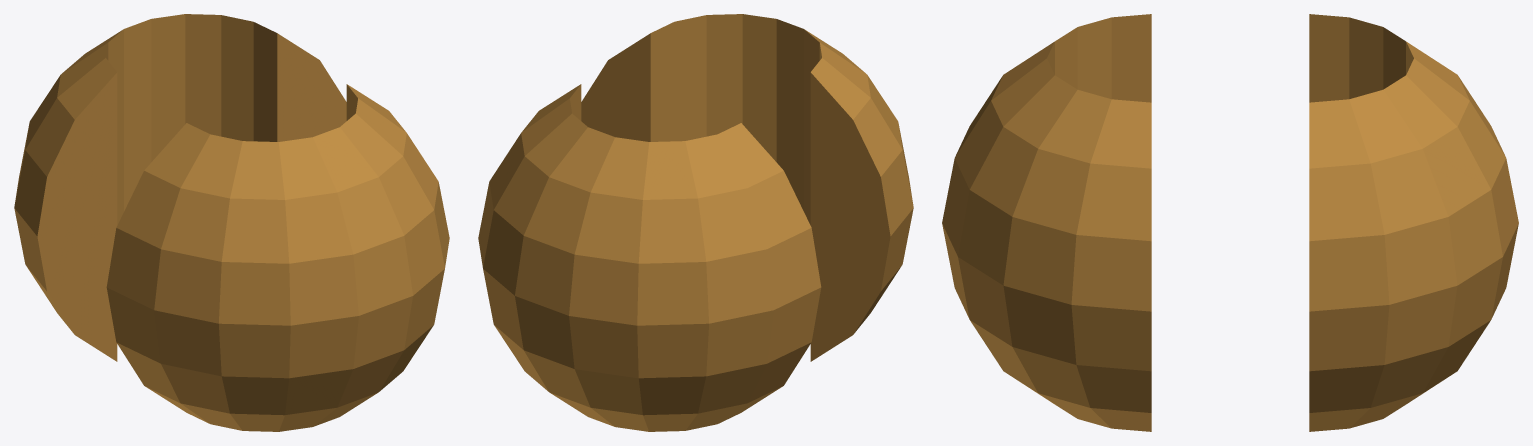
The model's file is Taq_Broken.fbx.
The picture shows the model from 3 angles, left to right: view 1: azimuth 30°, elevation 25°; view 2: azimuth 150°, elevation 25°; view 3: azimuth 270°, elevation 25°; orthographic projection. The views are drawn at different scales.
Parts seen in each view (by area): view 1: Taq_Broken; view 2: Taq_Broken; view 3: Taq_Broken.
Part boxes in pixels (<box>): Taq_Broken: <box>14,14,449,431</box>; Taq_Broken: <box>478,14,913,431</box>; Taq_Broken: <box>942,14,1518,431</box>.
Size of the model in its own units: 0.16 by 0.1386 by 0.22.
